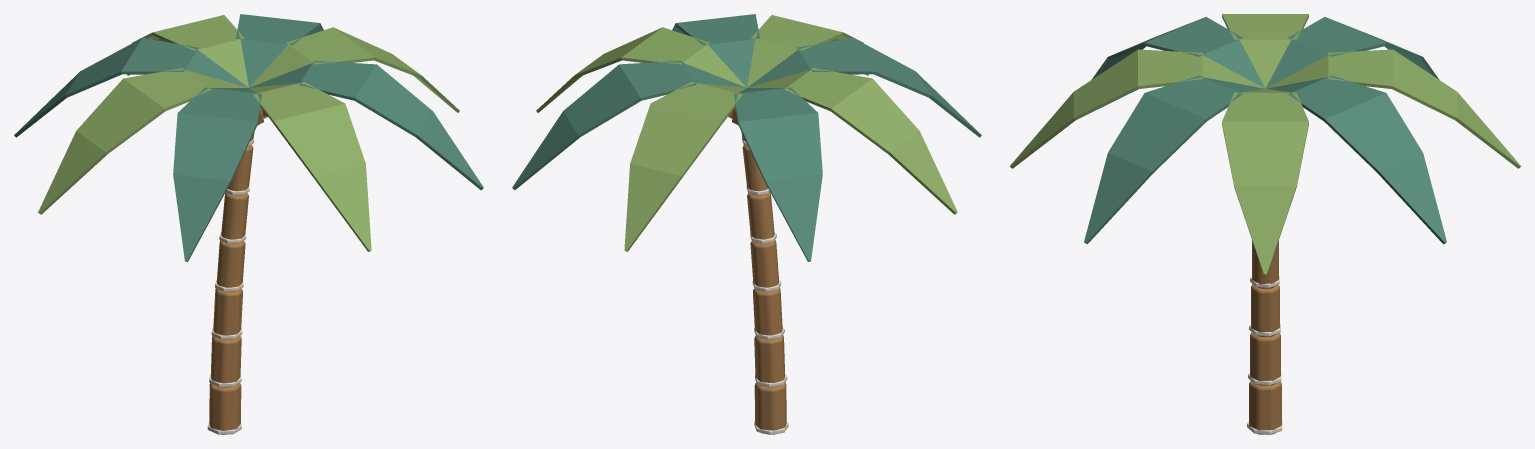
File: palm.glb
3 renders of one model, left to right at view 1: azimuth 30°, elevation 25°; view 2: azimuth 150°, elevation 25°; view 3: azimuth 270°, elevation 25°, orthographic. The views are drawn at different scales.
Parts seen in each view (by area): view 1: PalmFrond.003, PalmFrond.002, PalmFrond.004, PalmFrond.001, PalmFrond.005, PalmFrond, PalmFrond.006, PalmFrond.007, Trunk, Trunk.001, Trunk.002, Trunk.003 (+2 smaller); view 2: PalmFrond.005, PalmFrond.006, PalmFrond.004, PalmFrond.007, PalmFrond.003, PalmFrond, PalmFrond.002, PalmFrond.001, Trunk, Trunk.001, Trunk.002, Trunk.003 (+2 smaller); view 3: PalmFrond, PalmFrond.001, PalmFrond.007, PalmFrond.002, PalmFrond.006, PalmFrond.003, PalmFrond.005, PalmFrond.004, Trunk, Trunk.001, Trunk.002, Trunk.003.
Boxes of the visible parts, box(x1,y1,x2,y2) form: PalmFrond.003: box(173, 87, 261, 261); PalmFrond.002: box(249, 82, 371, 251); PalmFrond.004: box(38, 68, 248, 214); PalmFrond.001: box(250, 60, 483, 190); PalmFrond.005: box(14, 38, 247, 137); PalmFrond: box(249, 27, 459, 112); PalmFrond.006: box(127, 15, 248, 87); PalmFrond.007: box(235, 14, 323, 87); Trunk: box(209, 383, 241, 434); Trunk.001: box(210, 336, 241, 387); Trunk.002: box(213, 288, 242, 335); Trunk.003: box(216, 240, 245, 290); PalmFrond.005: box(734, 87, 822, 261); PalmFrond.006: box(624, 82, 746, 251); PalmFrond.004: box(747, 68, 957, 214); PalmFrond.007: box(512, 60, 745, 189); PalmFrond.003: box(747, 38, 981, 137); PalmFrond: box(536, 27, 746, 112); PalmFrond.002: box(747, 15, 868, 87); PalmFrond.001: box(672, 14, 760, 87); Trunk: box(754, 382, 786, 434); Trunk.001: box(754, 335, 785, 386); Trunk.002: box(753, 287, 782, 338); Trunk.003: box(750, 240, 779, 291); PalmFrond: box(1222, 88, 1308, 275); PalmFrond.001: box(1084, 75, 1264, 244); PalmFrond.007: box(1266, 75, 1446, 244); PalmFrond.002: box(1010, 49, 1264, 168); PalmFrond.006: box(1266, 49, 1520, 168); PalmFrond.003: box(1091, 17, 1265, 88); PalmFrond.005: box(1265, 17, 1439, 88); PalmFrond.004: box(1222, 14, 1308, 88); Trunk: box(1249, 381, 1281, 434); Trunk.001: box(1250, 332, 1280, 385); Trunk.002: box(1251, 284, 1279, 336); Trunk.003: box(1252, 240, 1278, 288).
Size of the model in its own units: 5.45 by 4.43 by 5.45.
